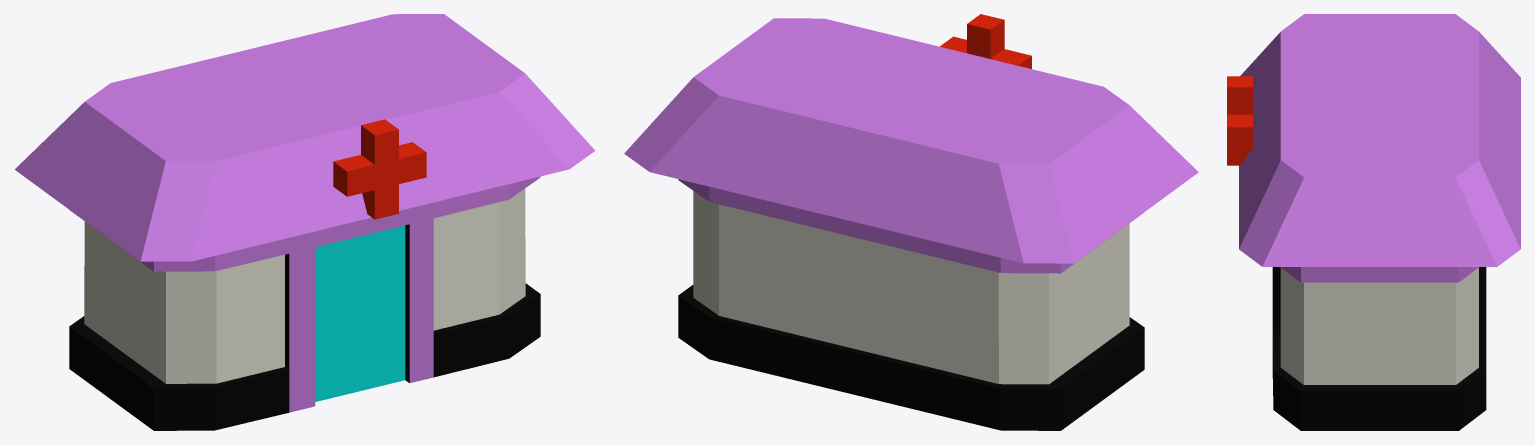
Rendered from centropokeort.fbx.
3 renders of one model, left to right at view 1: azimuth 30°, elevation 25°; view 2: azimuth 150°, elevation 25°; view 3: azimuth 270°, elevation 25°, orthographic. The views are drawn at different scales.
Visible parts, largest first — view 1: Cube.002; view 2: Cube.002; view 3: Cube.002.
Part boxes in pixels (x1,y1,x2,y2): Cube.002: (15,14,595,430); Cube.002: (624,14,1198,430); Cube.002: (1227,14,1520,430).
Bounding box in the file's own units: 494 × 291 × 296.
